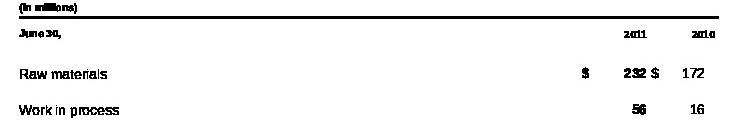table: (0, 0, 736, 137)
